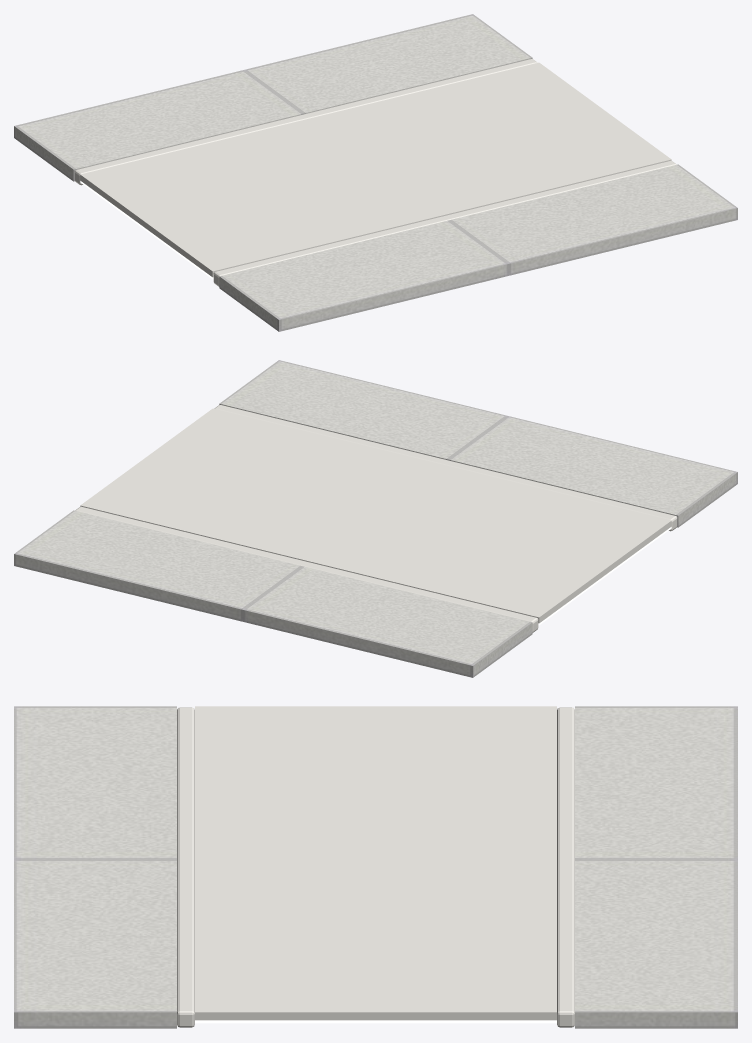
The model's file is ceiling_light_120.glb.
3 renders of one model, top to bottom at view 1: azimuth 30°, elevation 25°; view 2: azimuth 150°, elevation 25°; view 3: azimuth 270°, elevation 25°, orthographic. The views are drawn at different scales.
Visible parts, largest first — view 1: ceiling_light_120-col; view 2: ceiling_light_120-col; view 3: ceiling_light_120-col.
Part boxes in pixels (x1,y1,x2,y2): ceiling_light_120-col: (14,14,737,331); ceiling_light_120-col: (14,360,737,677); ceiling_light_120-col: (14,706,737,1028).
Bounding box in the file's own units: 1.2 × 0.03 × 1.2.
3 materials, 1 textured.
